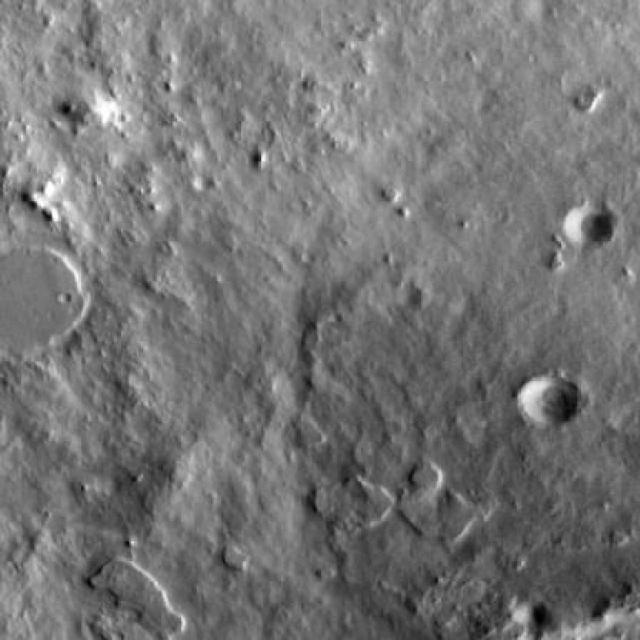crater: (0, 236, 77, 356), (513, 368, 576, 424), (560, 197, 612, 243)
